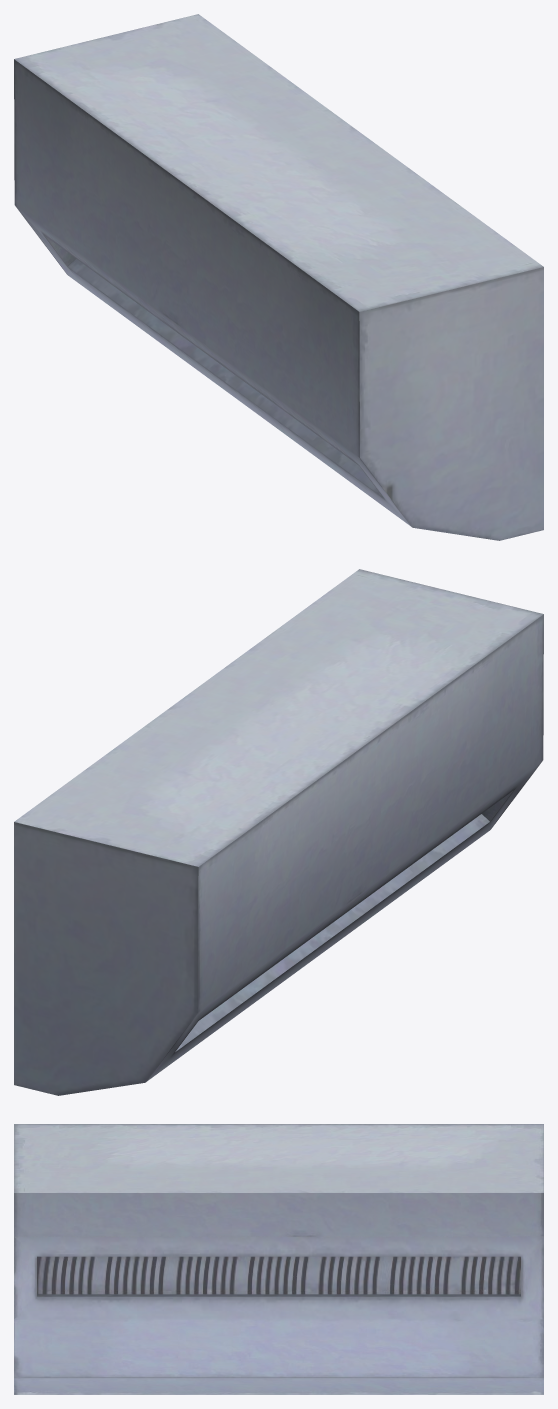
Rendered from M_Bedroom_AC.fbx.
3 views of the same model, one above another, from view 1: azimuth 30°, elevation 25°; view 2: azimuth 150°, elevation 25°; view 3: azimuth 270°, elevation 25° (orthographic). The views are drawn at different scales.
Visible parts, largest first — view 1: AC.001; view 2: AC.001; view 3: AC.001.
Boxes of the visible parts, box(x1,y1,x2,y2) form: AC.001: box(14, 14, 543, 540); AC.001: box(14, 569, 543, 1095); AC.001: box(14, 1124, 543, 1394).
Size of the model in its own units: 32.26 by 43.95 by 105.
